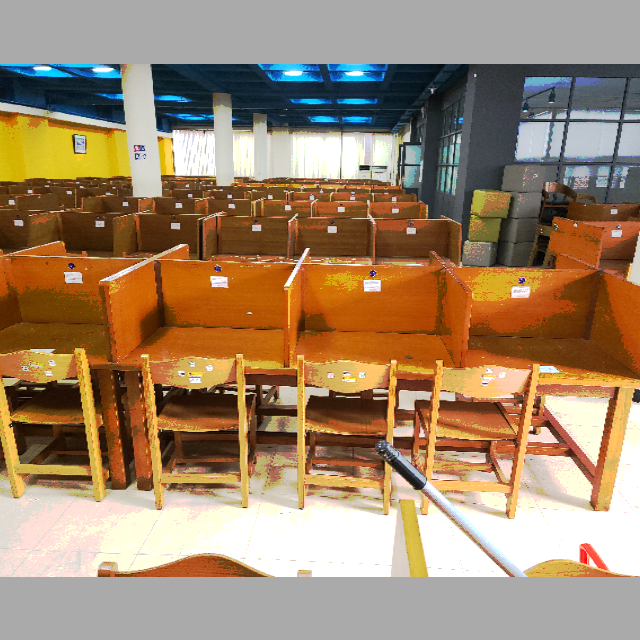empty: (470, 234, 640, 456), (101, 235, 286, 434), (292, 236, 463, 438)
